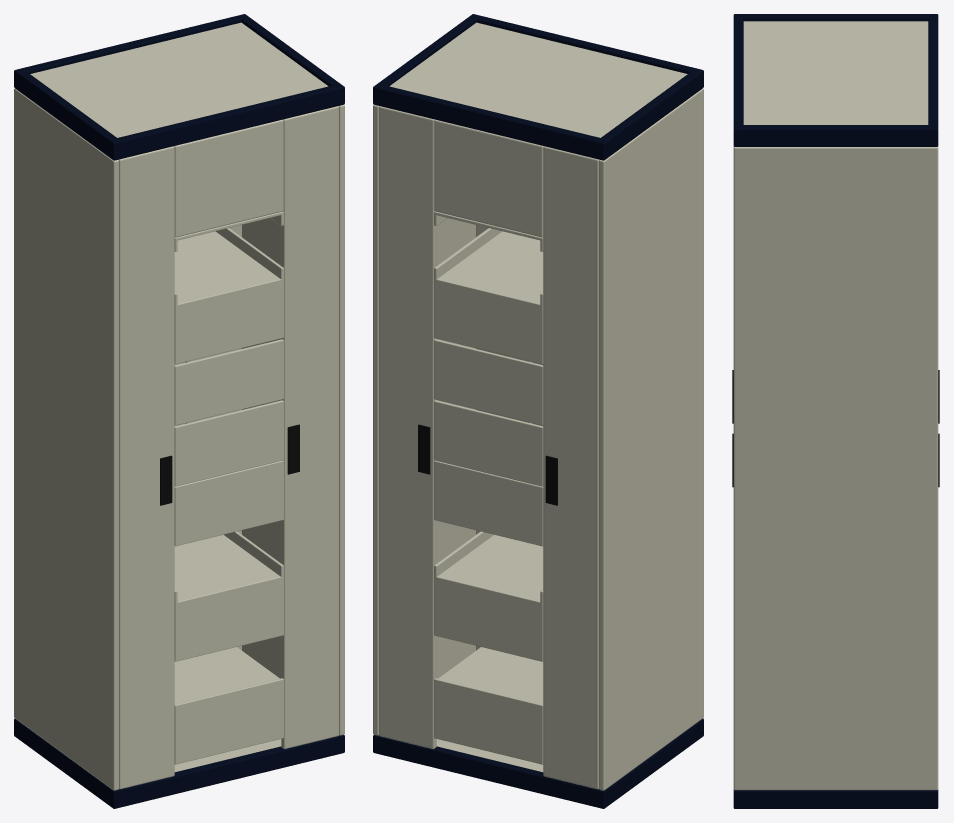
The model's file is ODF.FBX.
The picture shows the model from 3 angles, left to right: view 1: azimuth 30°, elevation 25°; view 2: azimuth 150°, elevation 25°; view 3: azimuth 270°, elevation 25°; orthographic projection. The views are drawn at different scales.
Parts seen in each view (by area): view 1: ODF机架0.8*0.6*2.2; view 2: ODF机架0.8*0.6*2.2; view 3: ODF机架0.8*0.6*2.2.
Part boxes in pixels (<box>): ODF机架0.8*0.6*2.2: <box>14,14,344,808</box>; ODF机架0.8*0.6*2.2: <box>373,14,703,808</box>; ODF机架0.8*0.6*2.2: <box>732,14,939,808</box>.
Bounding box in the file's own units: 800 × 2200 × 608.
